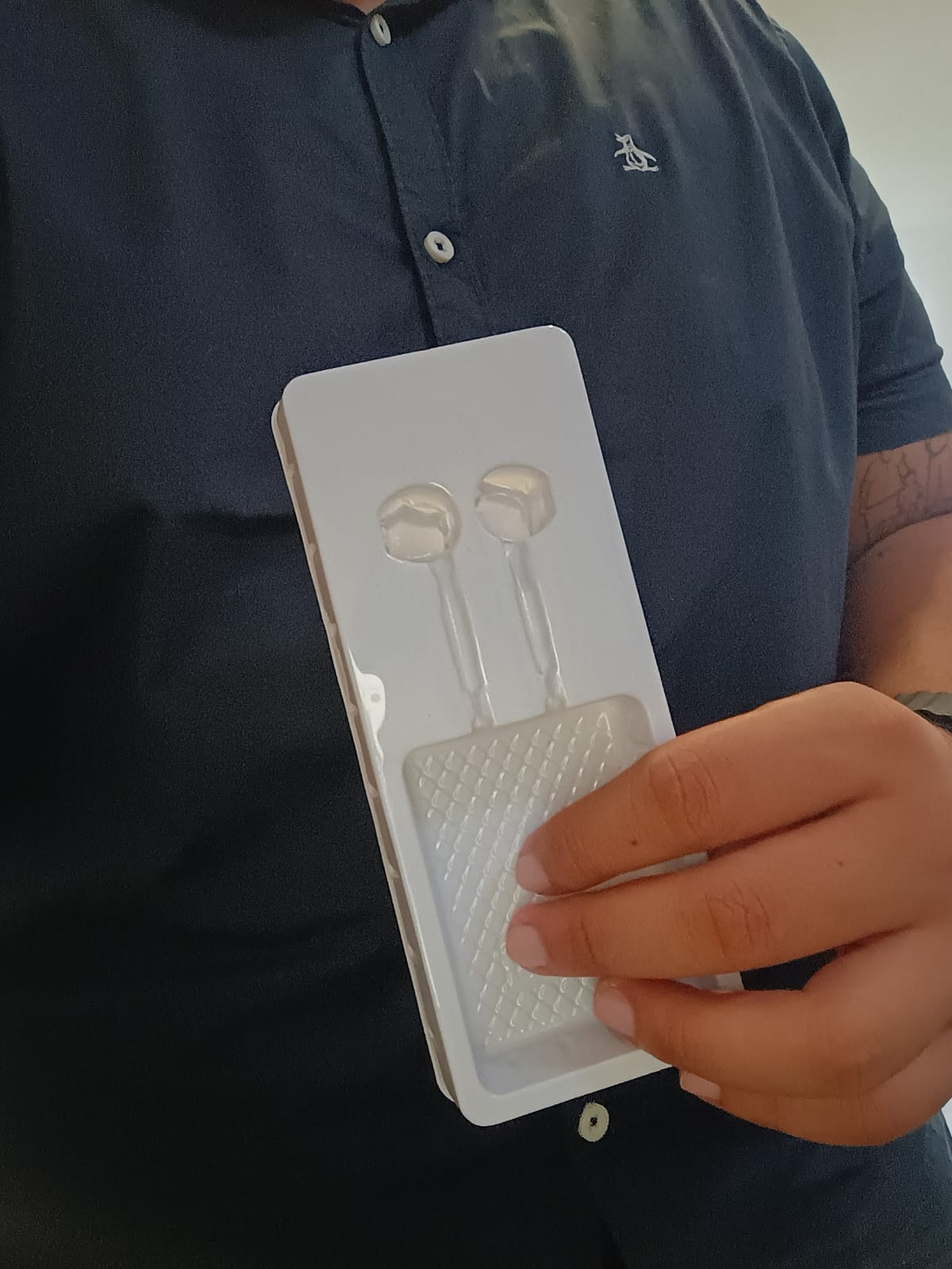Ordinario: (267, 326, 747, 1129)
